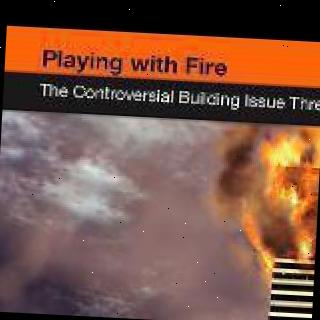fire: (243, 127, 320, 320)
